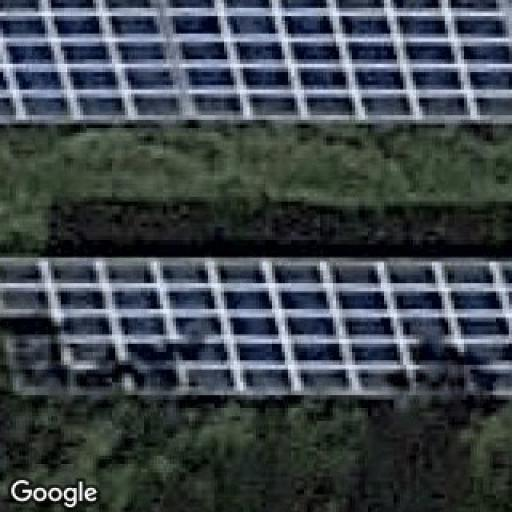solar-panel: (0, 256, 512, 400), (0, 0, 512, 126)
